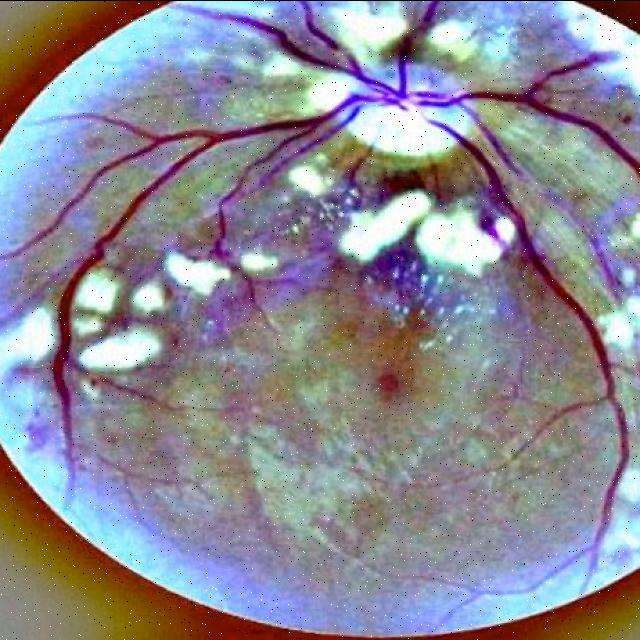Macula: (365, 367, 415, 405)
Nerves: (0, 0, 640, 474), (425, 119, 629, 574)
Optic Disk: (341, 62, 477, 155)
